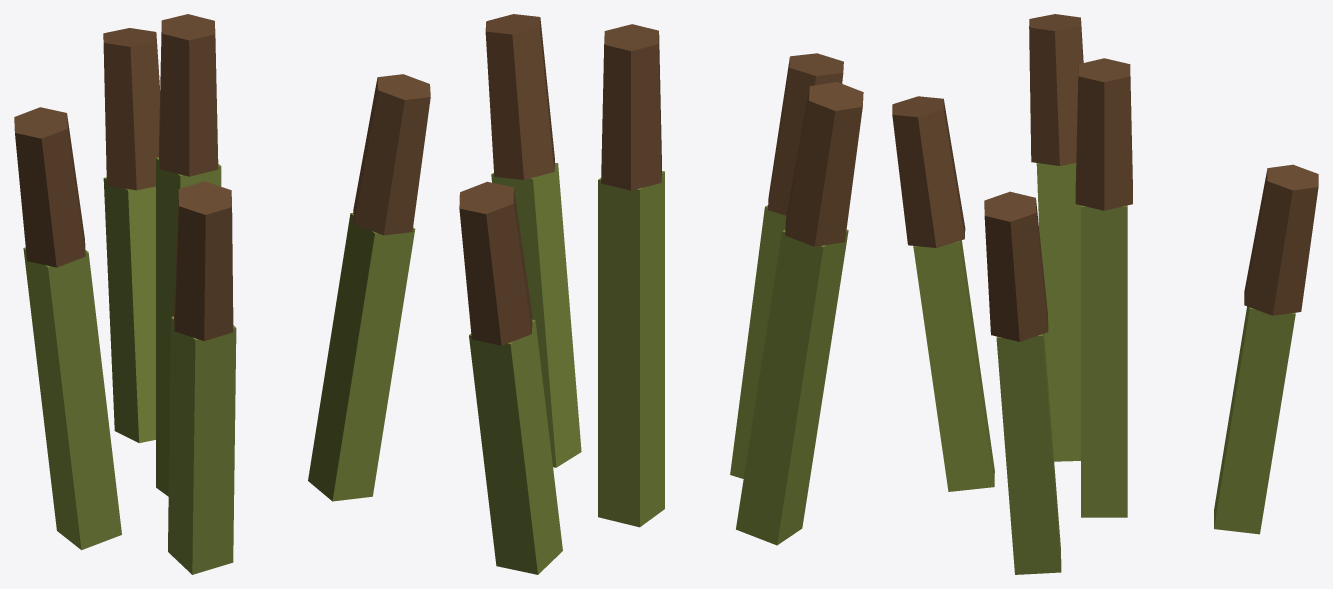
The model's file is env_r6_reed_clump.glb.
3 views of the same model, side by side, from view 1: azimuth 30°, elevation 25°; view 2: azimuth 150°, elevation 25°; view 3: azimuth 270°, elevation 25° (orthographic). The views are drawn at different scales.
Visible parts, largest first — view 1: env_r6_reed_clump; view 2: env_r6_reed_clump; view 3: env_r6_reed_clump.
Boxes of the visible parts, x1,y1,x2,y2 form: env_r6_reed_clump: [14, 14, 430, 574]; env_r6_reed_clump: [459, 14, 863, 574]; env_r6_reed_clump: [892, 14, 1318, 574].
Size of the model in its own units: 1.4 by 1.6 by 1.4.
1 material, 1 textured.
